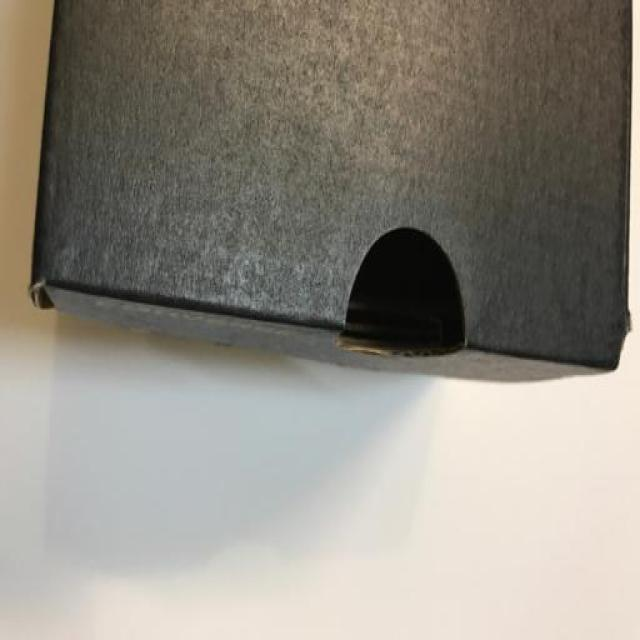cardboard: (29, 0, 635, 382)
